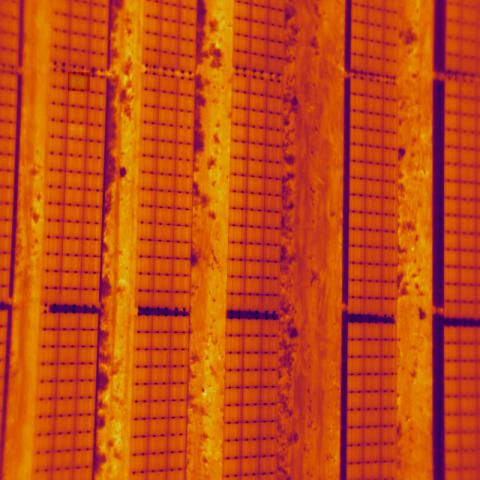fault: (67, 104, 89, 128), (68, 72, 90, 91)
